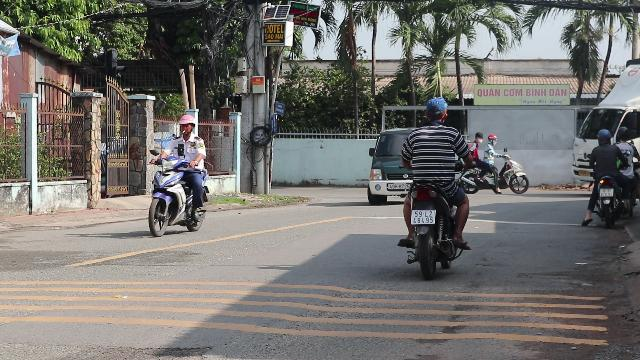helmet: (178, 114, 196, 136), (596, 128, 612, 144)
licenseplate: (412, 210, 434, 224), (600, 188, 612, 196)
motorcyclist: (395, 94, 475, 276), (144, 112, 210, 236), (583, 127, 637, 227)
nohelmet: (422, 96, 450, 124)
